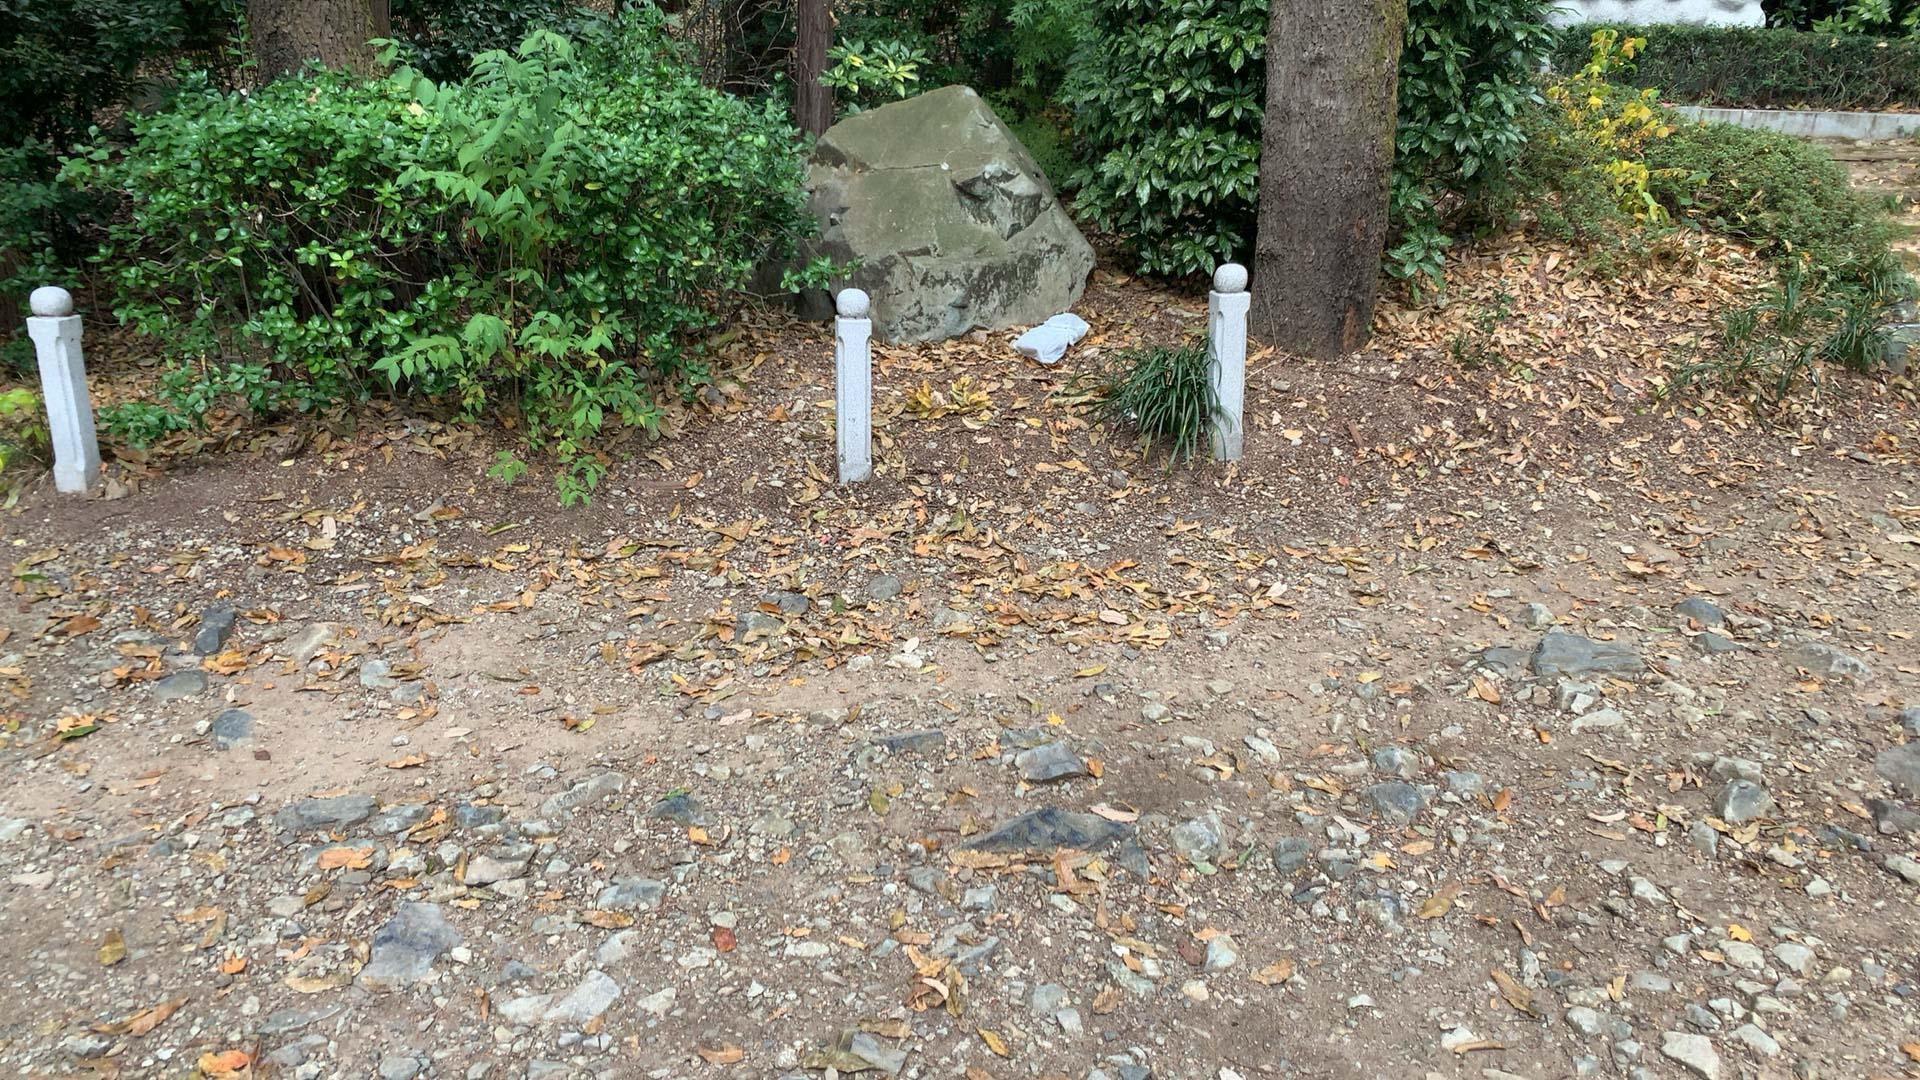white_bag: (1007, 311, 1097, 365)
